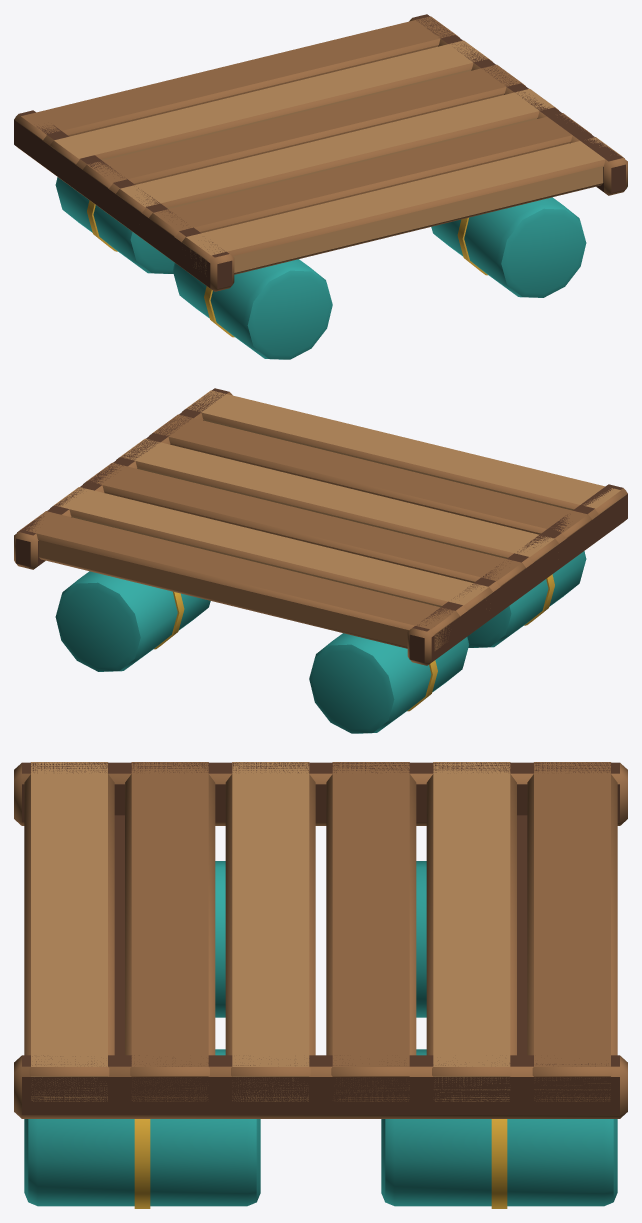
Rendered from dash_platform.glb.
The picture shows the model from 3 angles, top to bottom: view 1: azimuth 30°, elevation 25°; view 2: azimuth 150°, elevation 25°; view 3: azimuth 270°, elevation 25°; orthographic projection. The views are drawn at different scales.
Visible parts, largest first — view 1: dash_platform; view 2: dash_platform; view 3: dash_platform.
Part boxes in pixels (x1,y1,x2,y2): dash_platform: (14,14,627,359); dash_platform: (14,388,627,733); dash_platform: (14,762,627,1208).
Size of the model in its own units: 2.8 by 0.81 by 2.34.
